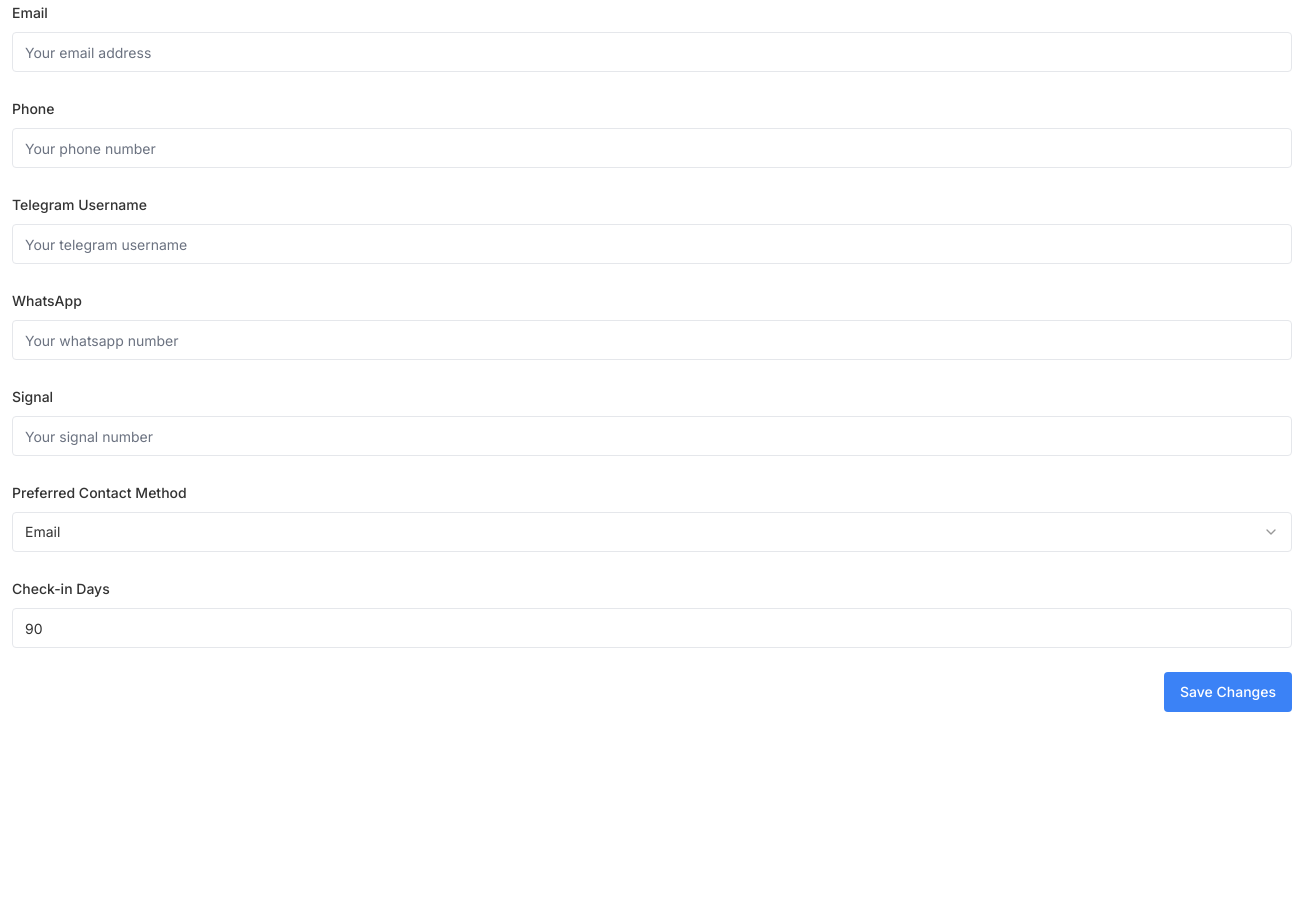
Test: ContactMethodsForm Component › shows error message when submission fails
Click the button "Save Changes": [1228, 692] box 1164,672 -> 1292,712
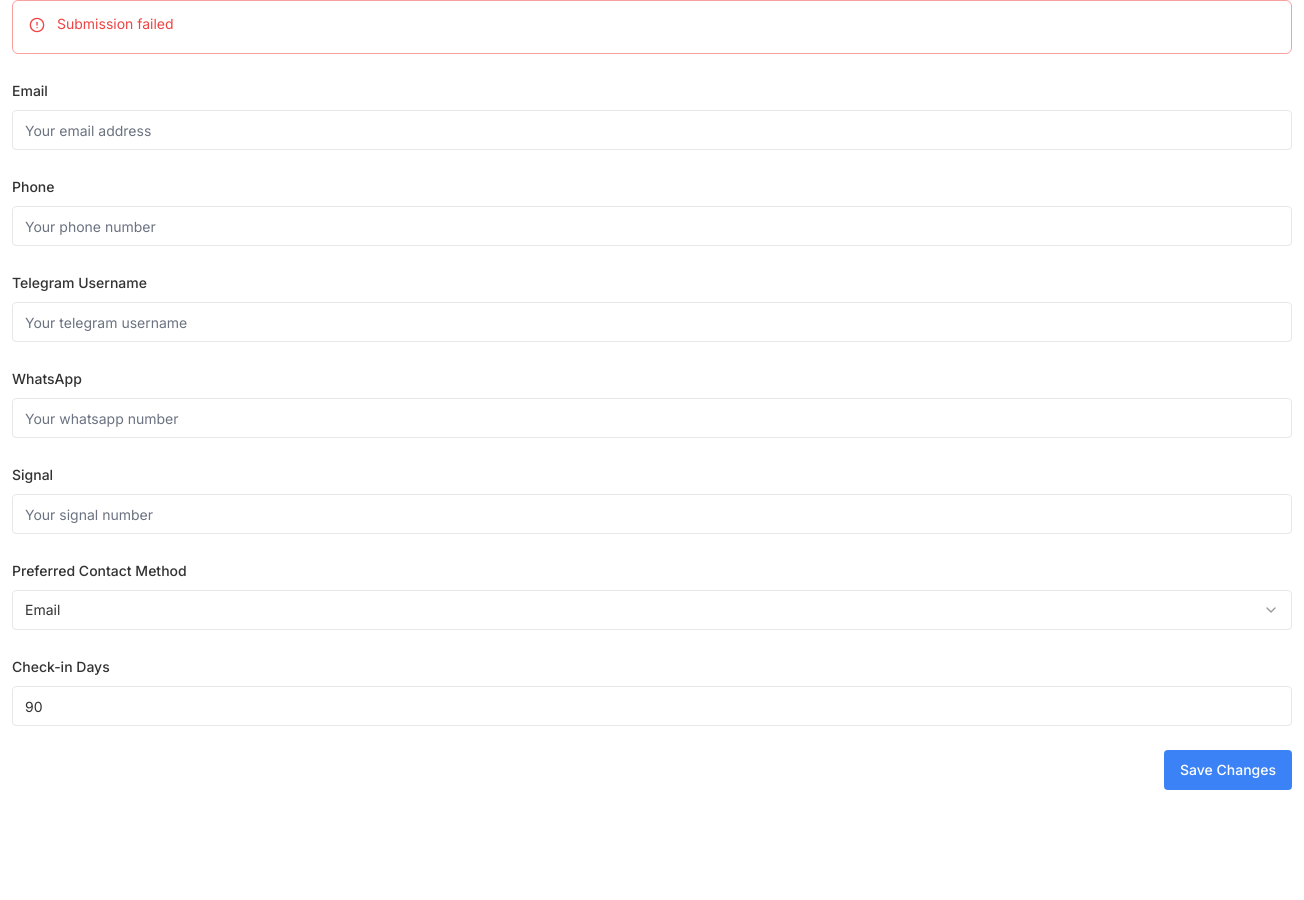
Expected: the text "Submission failed" is shown, 57,15 -> 174,32
